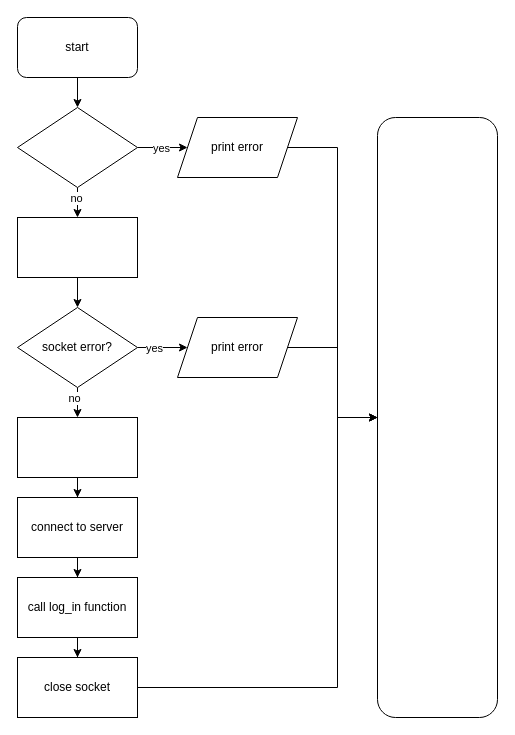
This 515x735 diagram has some shape labels left out. Each missing label, with the box of its shape:
# of arguments != 3: (16, 106, 138, 188)
end: (376, 116, 498, 718)
open socket: (16, 216, 138, 278)
set up server address: (16, 416, 138, 478)
